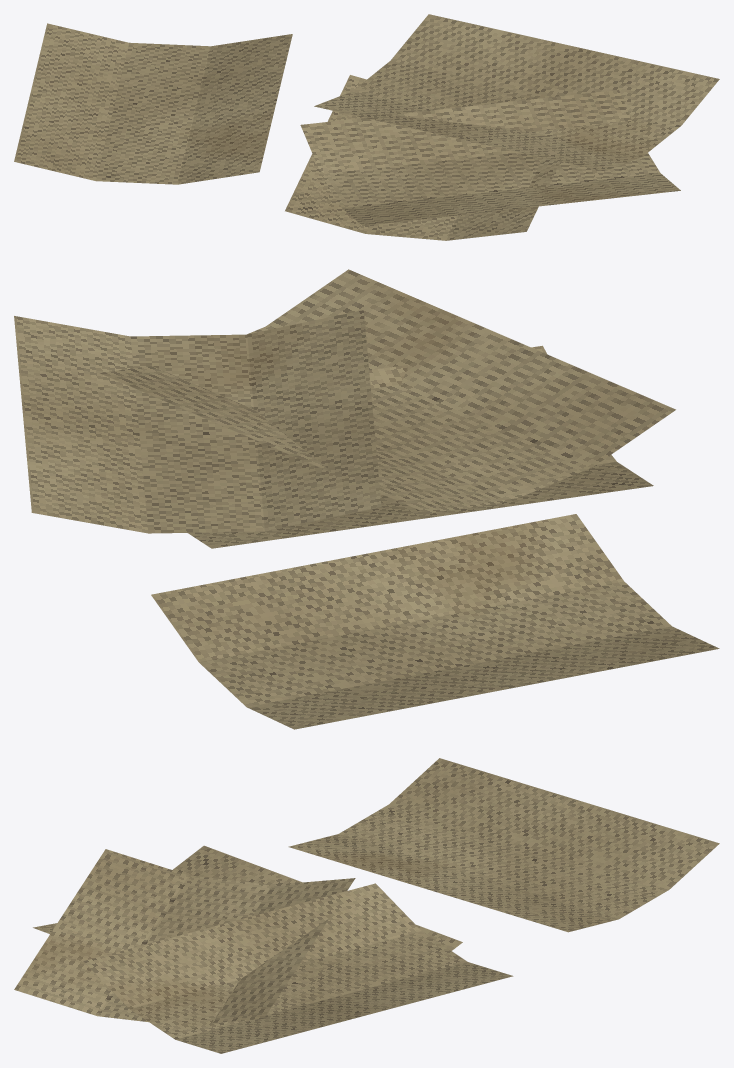
The model's file is pages.glb.
3 views of the same model, one above another, from view 1: azimuth 30°, elevation 25°; view 2: azimuth 150°, elevation 25°; view 3: azimuth 270°, elevation 25° (orthographic). The views are drawn at different scales.
Visible parts, largest first — view 1: pages; view 2: pages; view 3: pages.
Boxes of the visible parts, x1,y1,x2,y2 form: pages: [14, 14, 719, 240]; pages: [14, 269, 719, 729]; pages: [14, 758, 719, 1053].
Bounding box in the file's own units: 0.4223 × 0.0227 × 0.4084.
Materials: 1 (1 with a texture image).
